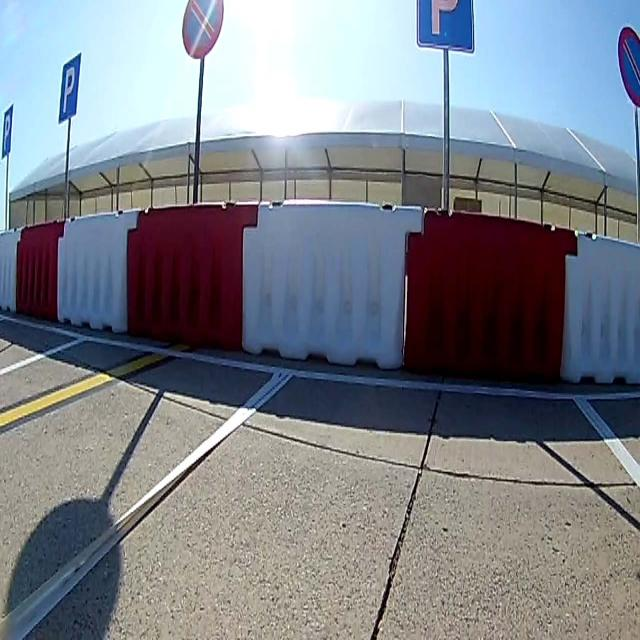park: (57, 58, 80, 122), (2, 106, 12, 156)
